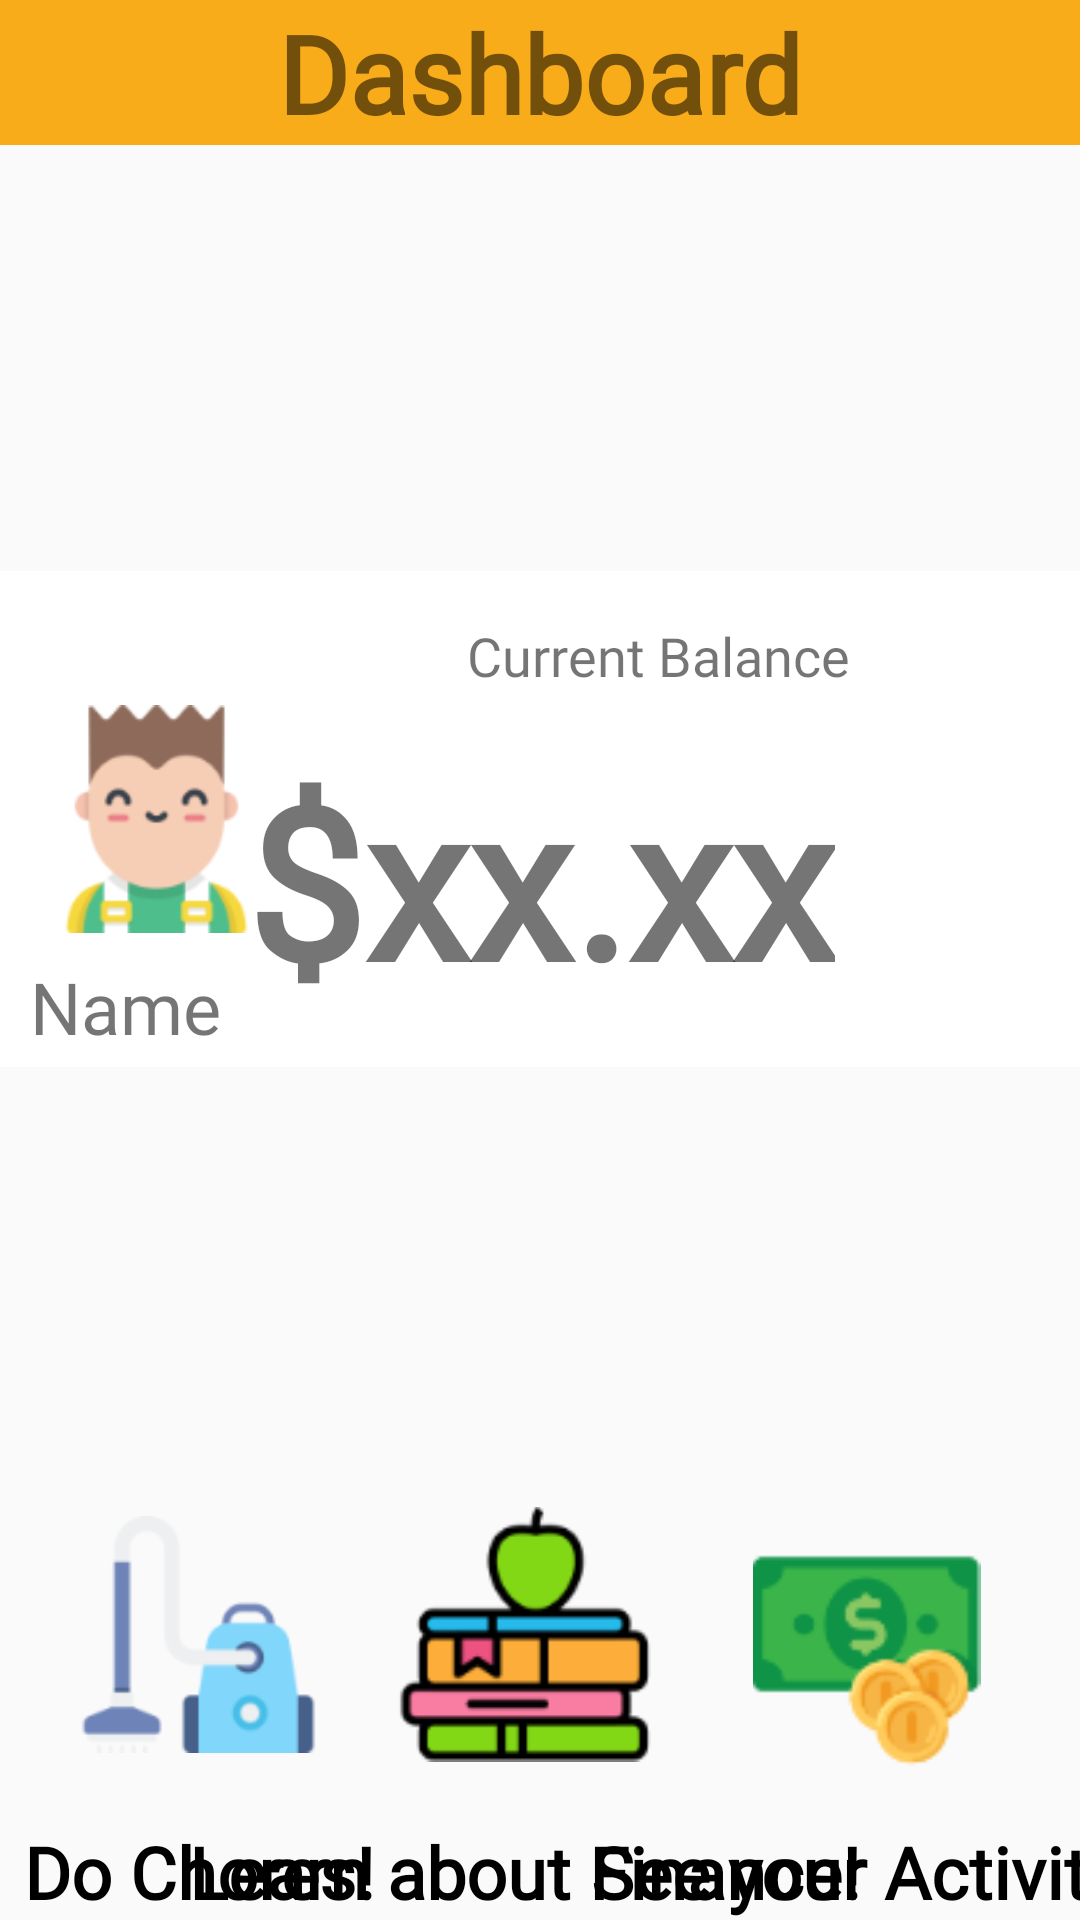

Screen size 1080×1920. Icon name, then its center in pixels as [x,y]:
book: [524,1634]
boy: [156,819]
money: [867,1660]
vacuum: [198,1656]
